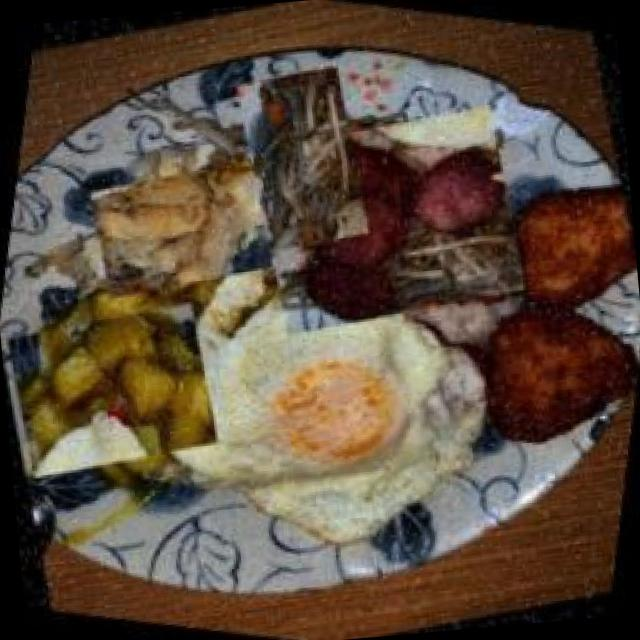chinese_cabbage: (61, 122, 297, 334)
chinese_sausage: (206, 52, 567, 388)
curry: (0, 256, 243, 520)
fried_eggs: (92, 194, 566, 636)
mung_bean_sprouts: (190, 48, 412, 270)
triangle_hash_brown: (412, 145, 640, 476)
